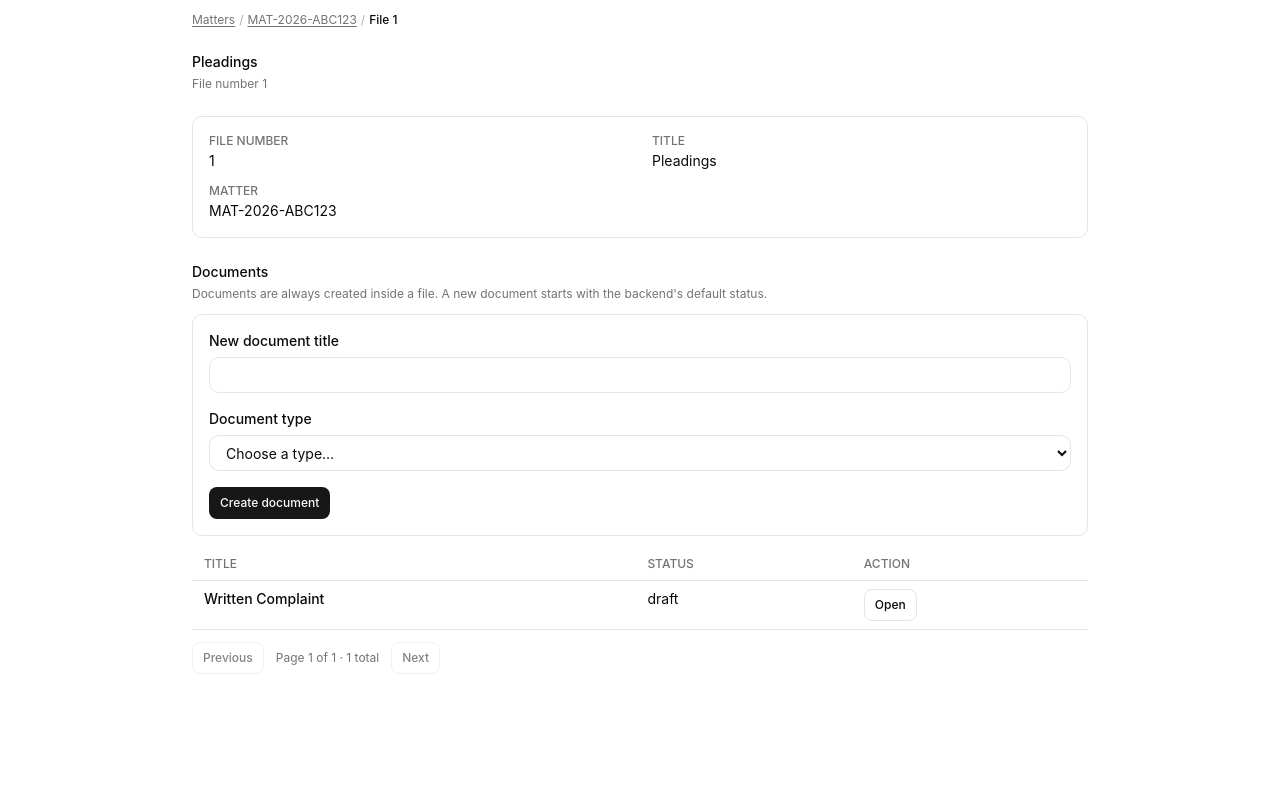
Scenario: FileDetailPage › surfaces a conflict raised while creating a document
Expected: the text "Written Complaint" is shown, [192,580,635,630]
Type "Written Complaint" into the field labelled "New document title". click: (640, 375)
box: [209,357,1071,393]
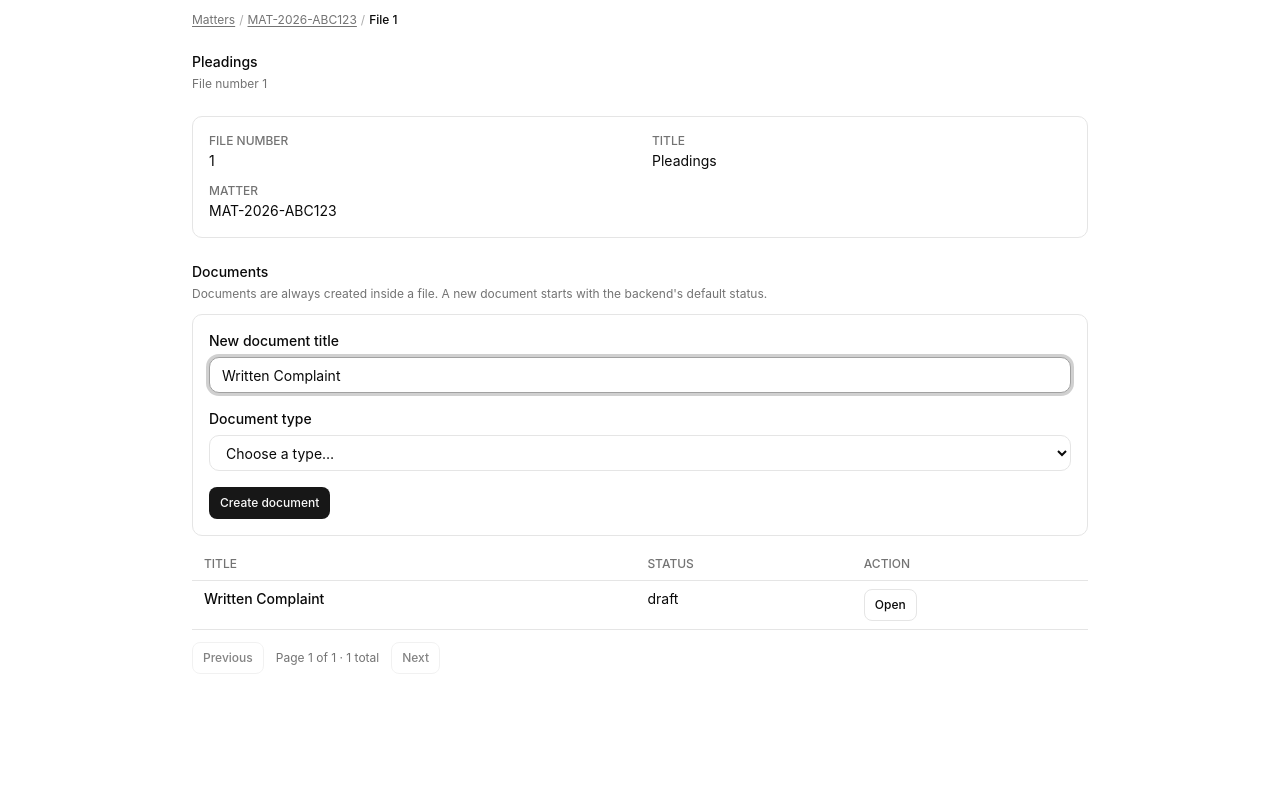
Select "Plaint (PL)" in the dropdown labelled "Document type". click: (640, 453)
box: [209,435,1071,471]
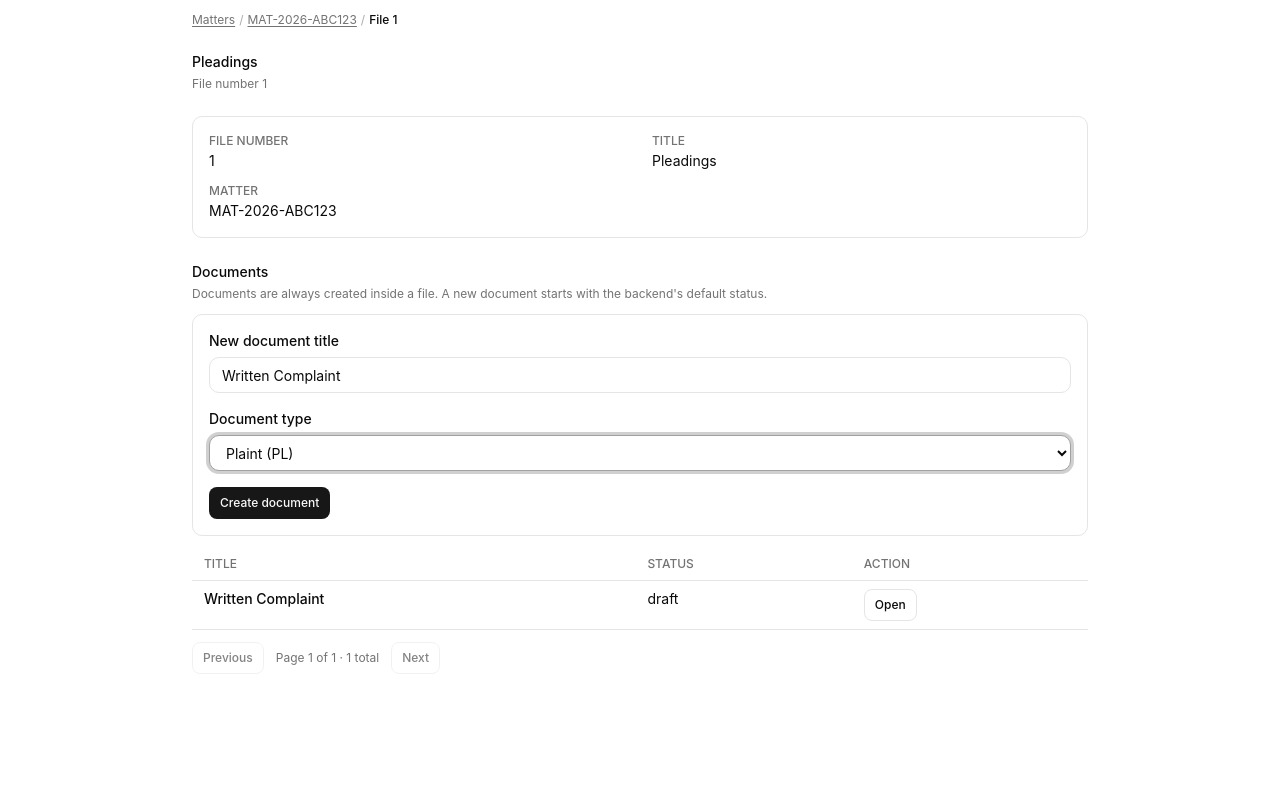
Click the button "Create document". click: click(270, 503)
box: [209,487,330,519]
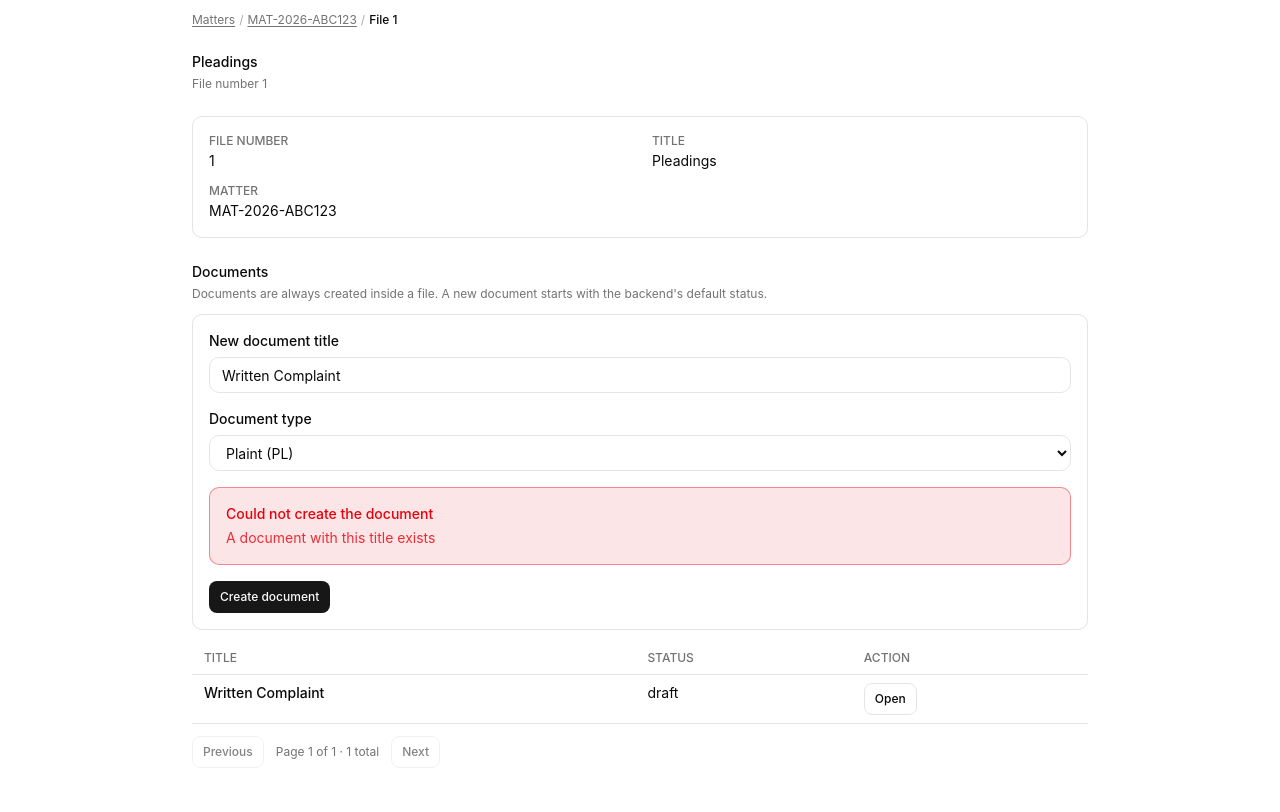
Result: the message shows "A document with this title exists" at [226,529,435,546]
